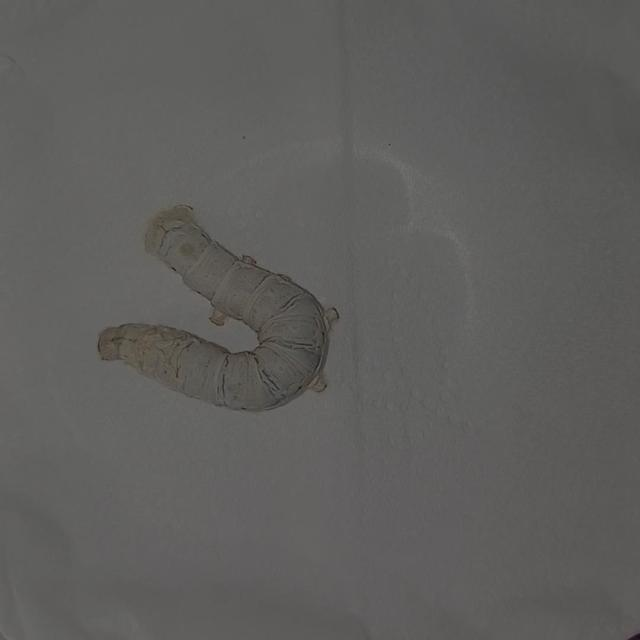Healthy: (90, 197, 344, 423)
